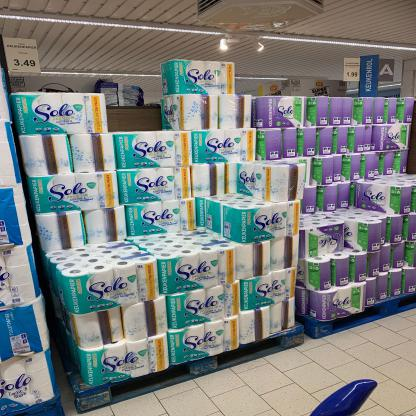prtg: (4, 38, 43, 74), (344, 59, 362, 83)
